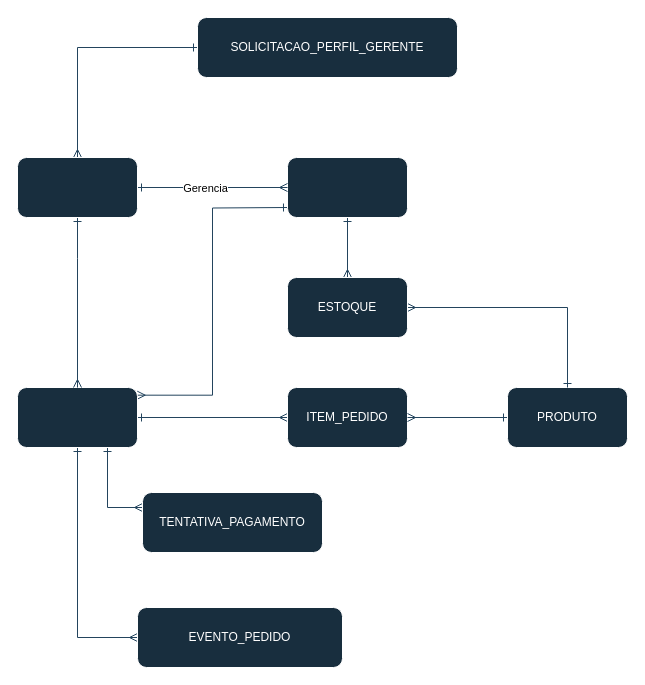
The diagram is 645 pixels wide and 685 high, and some of its shapes have lost their labels. Here are the shapes that lost their labels. From the top down, the centre of each, then its label:
the point at 77,187: USUARIO
the point at 347,187: UNIDADE
the point at 77,417: PEDIDO
